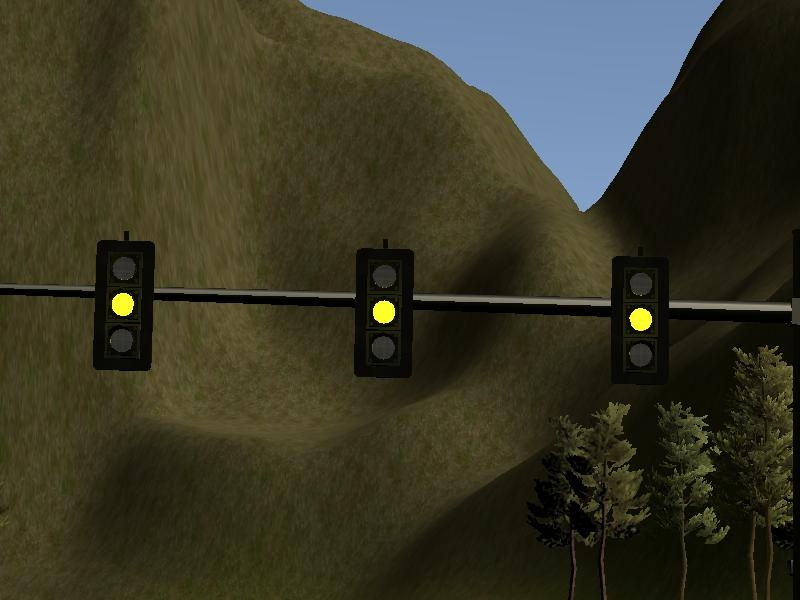YELLOW: (89, 239, 153, 369), (350, 247, 414, 377), (609, 252, 673, 382)
